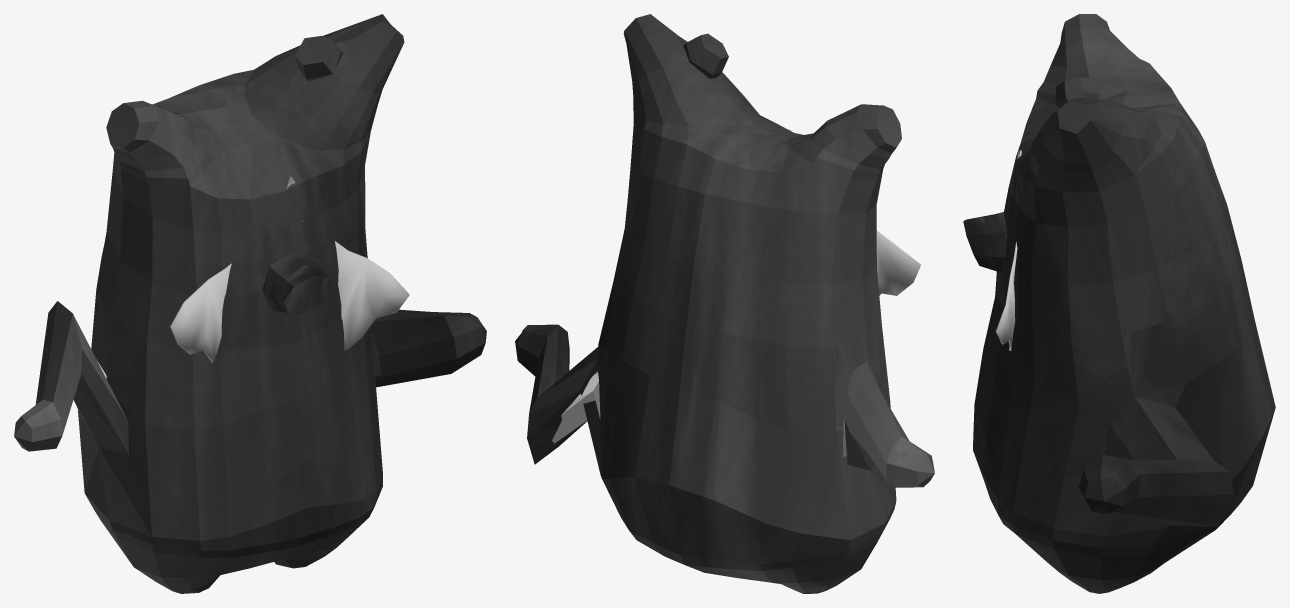
The model's file is frame_0008.obj.
3 renders of one model, left to right at view 1: azimuth 30°, elevation 25°; view 2: azimuth 150°, elevation 25°; view 3: azimuth 270°, elevation 25°, orthographic. The views are drawn at different scales.
Parts seen in each view (by area): view 1: korok, leaf, nose; view 2: korok, leaf; view 3: korok, nose, leaf.
Part boxes in pixels (x1,y1,x2,y2): korok: [14, 14, 486, 593]; leaf: [170, 177, 409, 362]; nose: [262, 253, 330, 313]; korok: [515, 14, 934, 593]; leaf: [789, 129, 920, 295]; korok: [973, 14, 1275, 593]; nose: [963, 212, 1006, 272]; leaf: [995, 150, 1021, 350].
Size of the model in its own units: 1.96 by 2.23 by 1.2.
